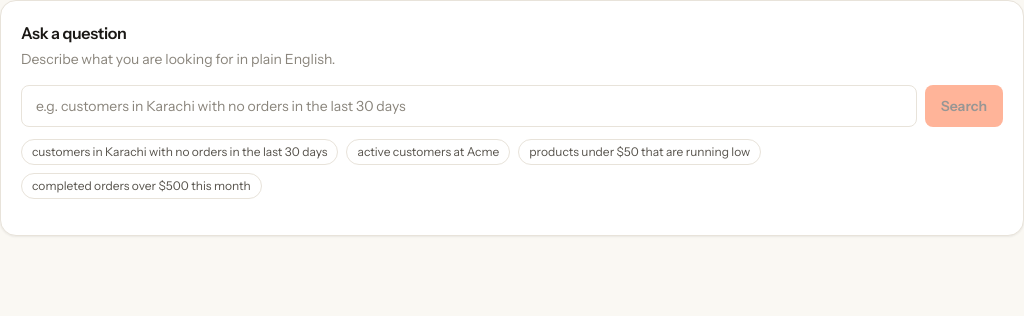
Test case: AiSearchBar › reports an outright failure
Type "customers in Karachi" into the field at (469, 106), box [21,85,917,127]
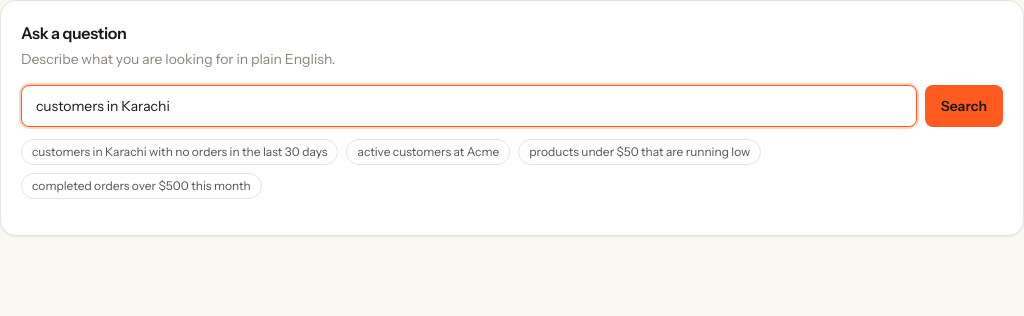
Click the button "Search" at (964, 106), box [925,85,1003,127]
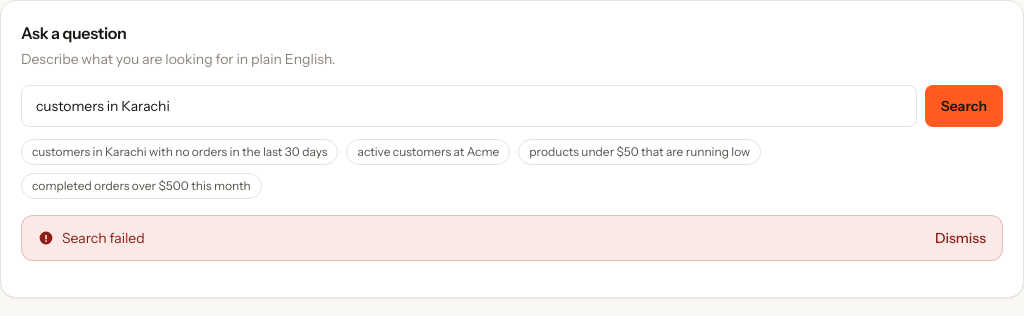
Expected: the text "Search failed" is shown, [38,228,145,248]
